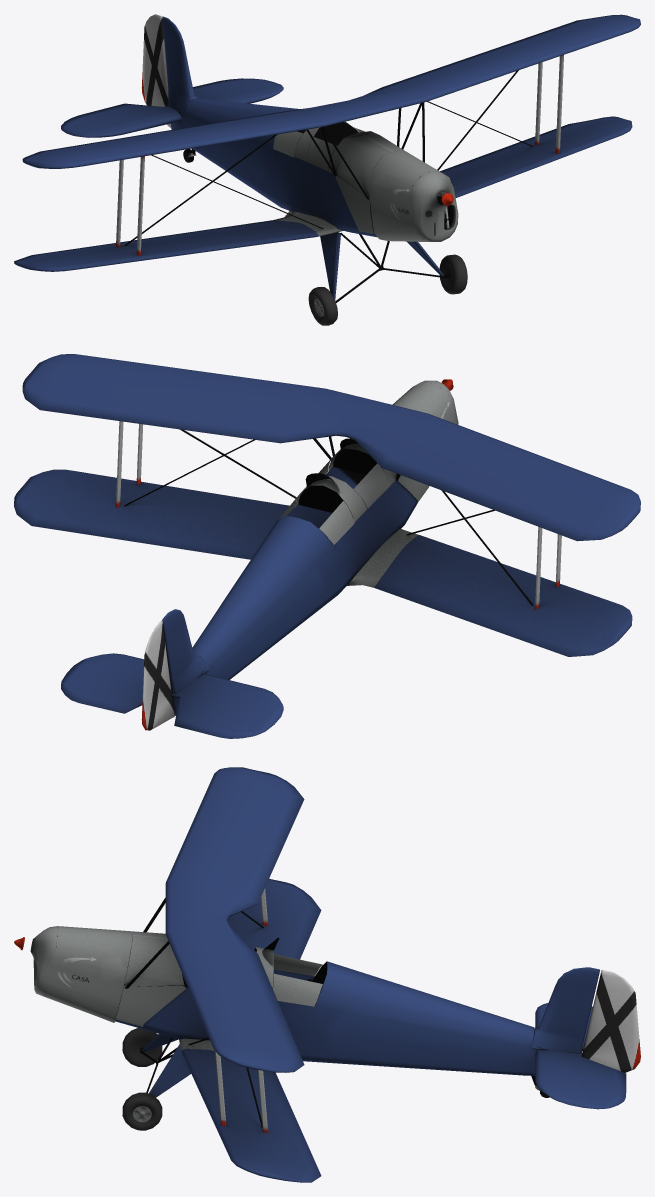
The model's file is bucker_no_reg.glb.
3 views of the same model, one above another, from view 1: azimuth 30°, elevation 25°; view 2: azimuth 150°, elevation 25°; view 3: azimuth 270°, elevation 25° (orthographic).
Parts seen in each view (by area): view 1: Wing_Plane.041, Plane.028_Plane.040, Plane.032_Plane.044, Plane.034_Plane.046, Plane.031_Plane.043, Plane.043_Plane.055, Plane.047_Plane.059, Plane.044_Plane.056, Circle.004_Circle.006, Plane.048_Plane.060, Plane.045_Plane.057, Plane.038_Plane.050 (+4 smaller); view 2: Wing_Plane.041, Plane.028_Plane.040, Plane.034_Plane.046, Plane.031_Plane.043, Plane.043_Plane.055, Plane.047_Plane.059, Plane.042_Plane.054, Plane.032_Plane.044, Plane.030_Plane.042, Plane.044_Plane.056, Plane.045_Plane.057; view 3: Wing_Plane.041, Plane.028_Plane.040, Plane.032_Plane.044, Plane.031_Plane.043, Plane.034_Plane.046, Plane.043_Plane.055, Plane.047_Plane.059, Circle.004_Circle.006, Plane.038_Plane.050, Plane.048_Plane.060, Plane.044_Plane.056.
Boxes of the visible parts, x1=… form: Wing_Plane.041: x1=14, y1=14, x2=640, y2=271; Plane.028_Plane.040: x1=170, y1=98, x2=377, y2=237; Plane.032_Plane.044: x1=369, y1=150, x2=458, y2=241; Plane.034_Plane.046: x1=61, y1=78, x2=283, y2=137; Plane.031_Plane.043: x1=273, y1=121, x2=403, y2=198; Plane.043_Plane.055: x1=141, y1=14, x2=171, y2=128; Plane.047_Plane.059: x1=162, y1=16, x2=199, y2=114; Plane.044_Plane.056: x1=116, y1=55, x2=563, y2=255; Circle.004_Circle.006: x1=308, y1=254, x2=467, y2=325; Plane.048_Plane.060: x1=320, y1=232, x2=443, y2=299; Plane.045_Plane.057: x1=124, y1=70, x2=532, y2=245; Plane.038_Plane.050: x1=335, y1=175, x2=373, y2=233; Wing_Plane.041: x1=14, y1=354, x2=640, y2=656; Plane.028_Plane.040: x1=172, y1=467, x2=417, y2=715; Plane.034_Plane.046: x1=61, y1=653, x2=283, y2=738; Plane.031_Plane.043: x1=278, y1=443, x2=400, y2=544; Plane.043_Plane.055: x1=141, y1=620, x2=174, y2=730; Plane.047_Plane.059: x1=162, y1=609, x2=208, y2=693; Plane.042_Plane.054: x1=298, y1=448, x2=383, y2=517; Plane.032_Plane.044: x1=392, y1=380, x2=458, y2=424; Plane.030_Plane.042: x1=347, y1=529, x2=418, y2=587; Plane.044_Plane.056: x1=116, y1=421, x2=561, y2=609; Plane.045_Plane.057: x1=124, y1=429, x2=533, y2=605; Wing_Plane.041: x1=165, y1=767, x2=321, y2=1182; Plane.028_Plane.040: x1=115, y1=948, x2=548, y2=1075; Plane.032_Plane.044: x1=30, y1=926, x2=132, y2=1022; Plane.031_Plane.043: x1=124, y1=931, x2=322, y2=1006; Plane.034_Plane.046: x1=535, y1=1003, x2=626, y2=1109; Plane.043_Plane.055: x1=582, y1=970, x2=640, y2=1072; Plane.047_Plane.059: x1=532, y1=967, x2=599, y2=1053; Circle.004_Circle.006: x1=122, y1=1028, x2=162, y2=1130; Plane.038_Plane.050: x1=116, y1=985, x2=186, y2=1026; Plane.048_Plane.060: x1=141, y1=1034, x2=191, y2=1097; Plane.044_Plane.056: x1=215, y1=888, x2=268, y2=1132.
Bounding box in the file's own units: 14.29 × 4.29 × 12.74.
Materials: 1 (1 with a texture image).
